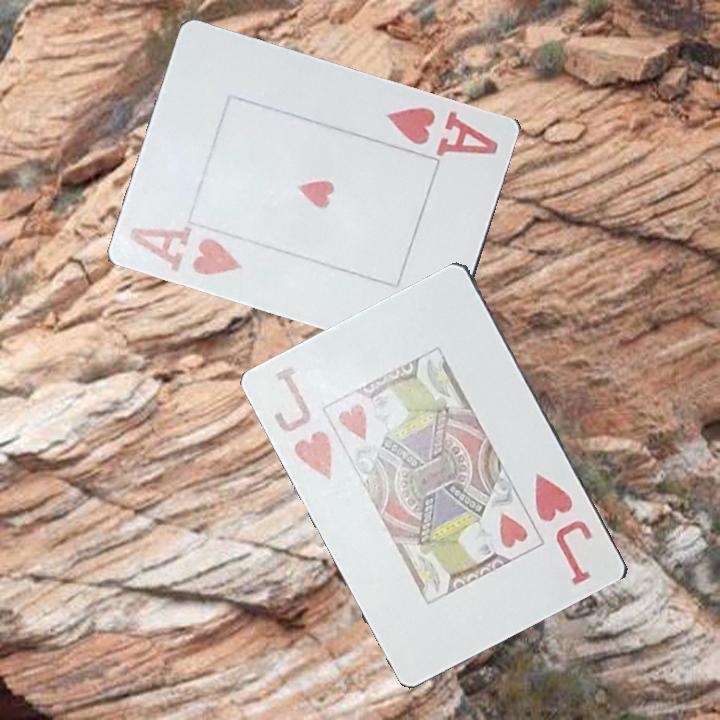Ah: (125, 221, 246, 278), (383, 103, 502, 159)
Jh: (271, 363, 336, 483), (531, 470, 596, 589)
